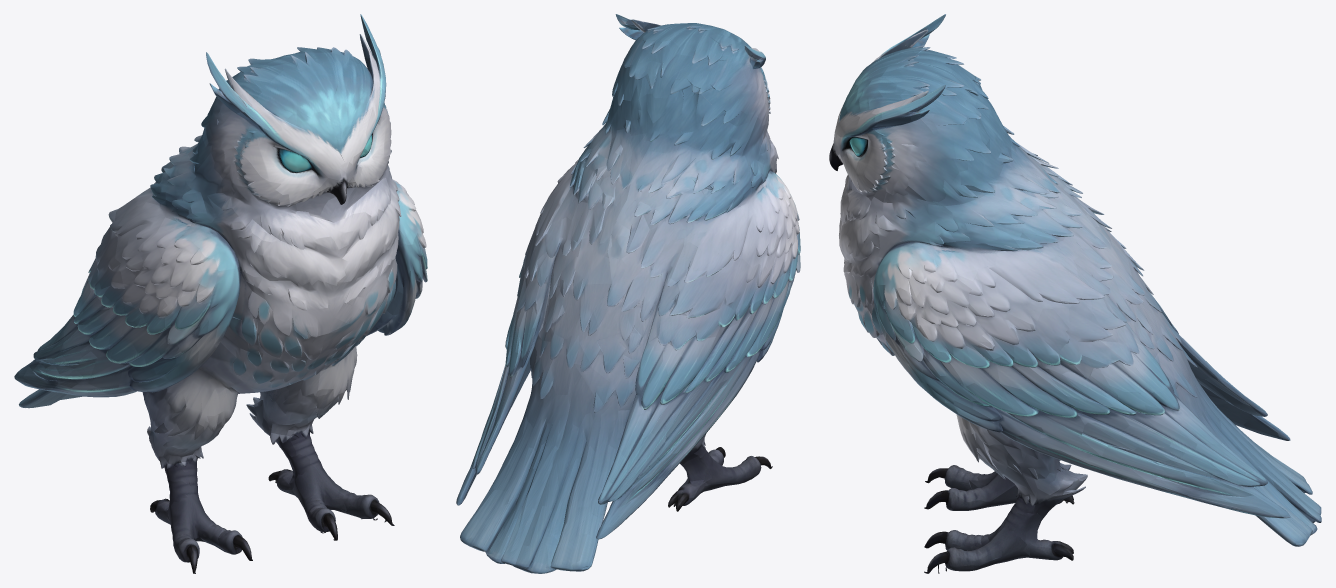
Rendered from pipwing_a.glb.
3 views of the same model, side by side, from view 1: azimuth 30°, elevation 25°; view 2: azimuth 150°, elevation 25°; view 3: azimuth 270°, elevation 25° (orthographic). The views are drawn at different scales.
Parts seen in each view (by area): view 1: Mesh_0; view 2: Mesh_0; view 3: Mesh_0.
Boxes of the visible parts, left/top/right/bottom form: Mesh_0: left=14, top=14, right=427, bottom=573; Mesh_0: left=456, top=14, right=800, bottom=573; Mesh_0: left=829, top=14, right=1321, bottom=573.
Size of the model in its own units: 1.06 by 1.9 by 1.76.
1 material, 1 textured.
